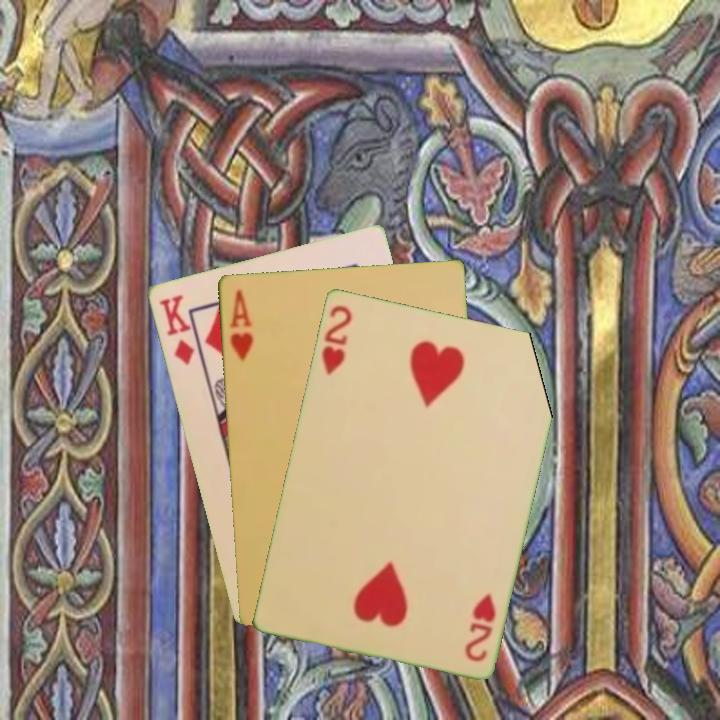2h: (317, 301, 355, 378), (461, 590, 499, 664)
Ah: (225, 285, 256, 364)
Kd: (155, 291, 197, 368)
